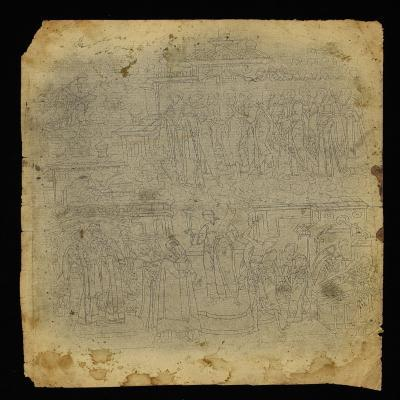graphics: (18, 19, 386, 395)
